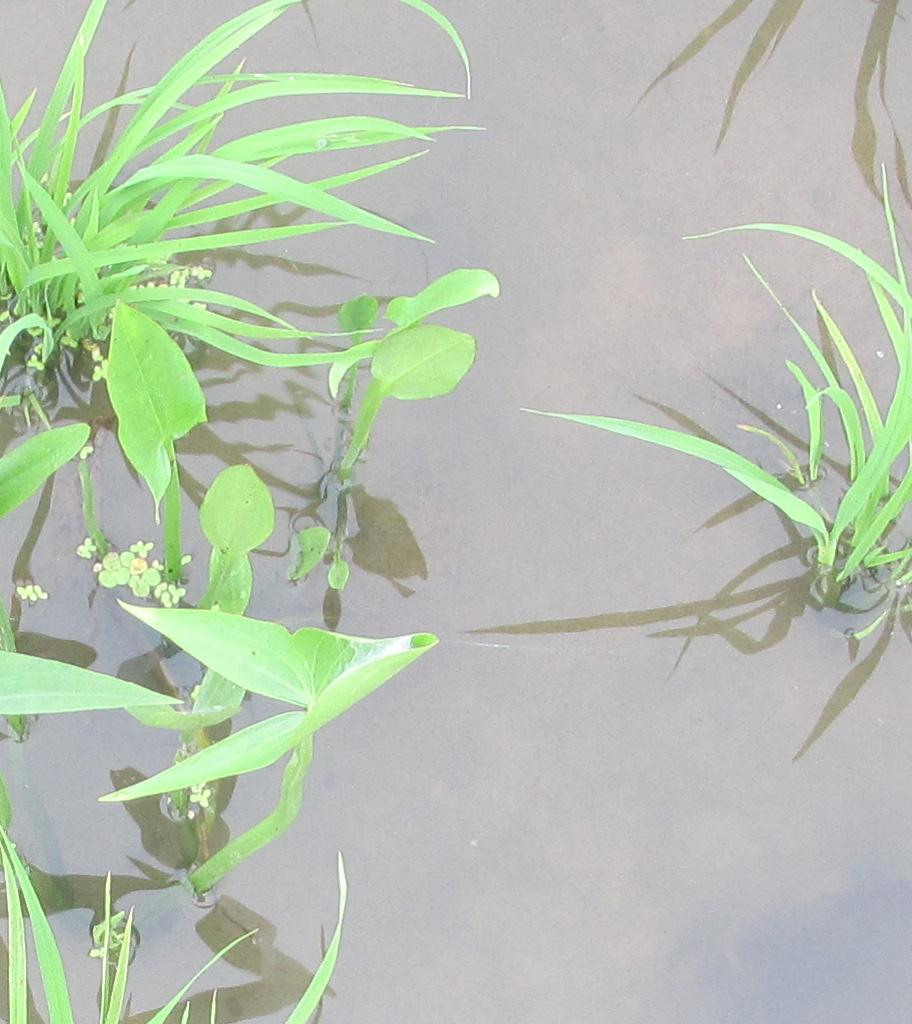Weed: (2, 303, 467, 805)
